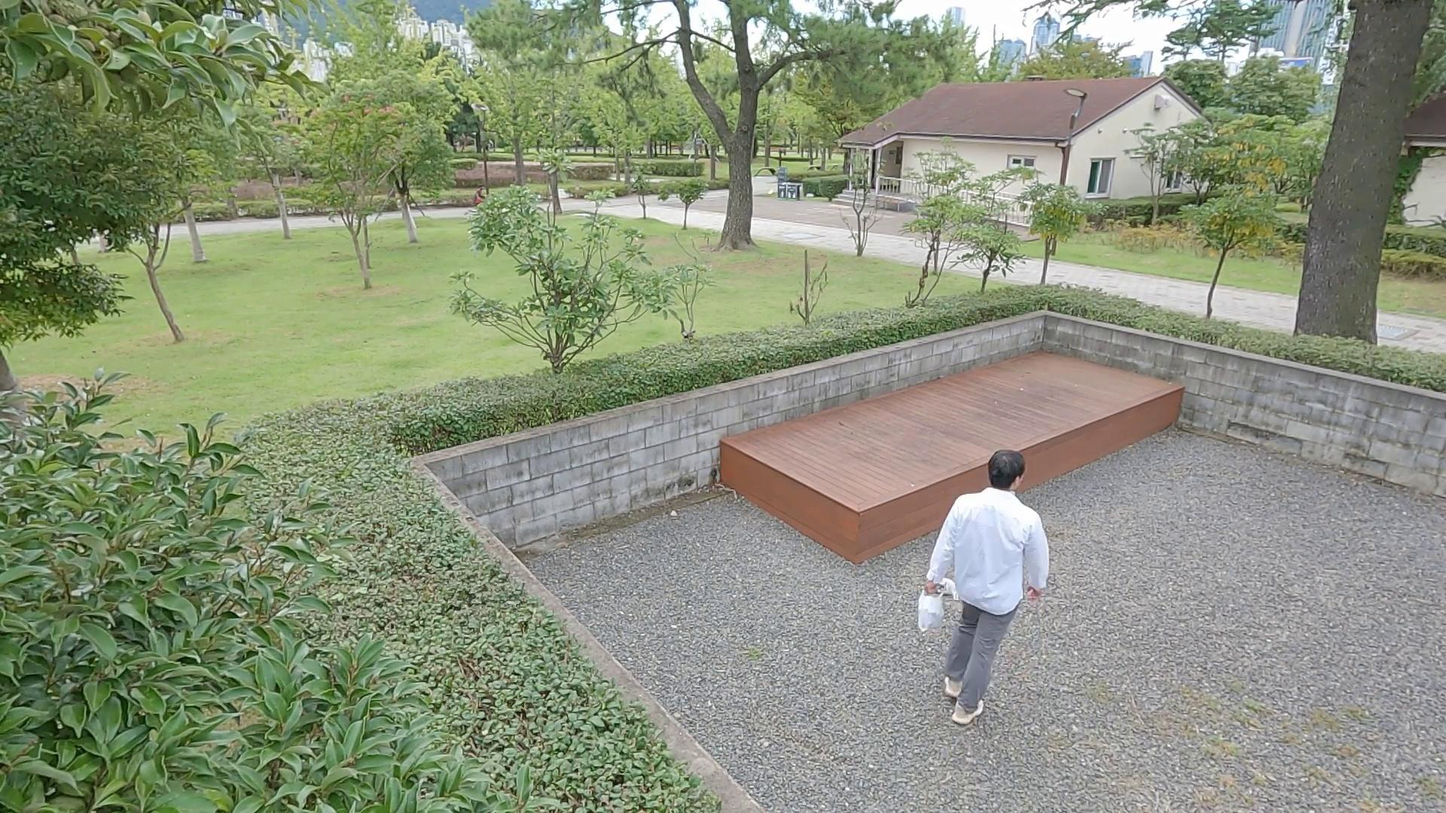person: (922, 448, 1058, 726)
trash: (909, 590, 947, 634)
